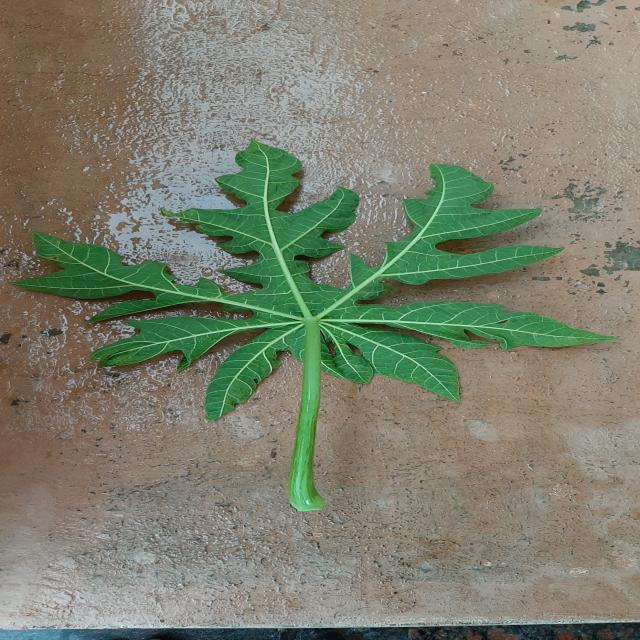papaya: (14, 141, 612, 455)
